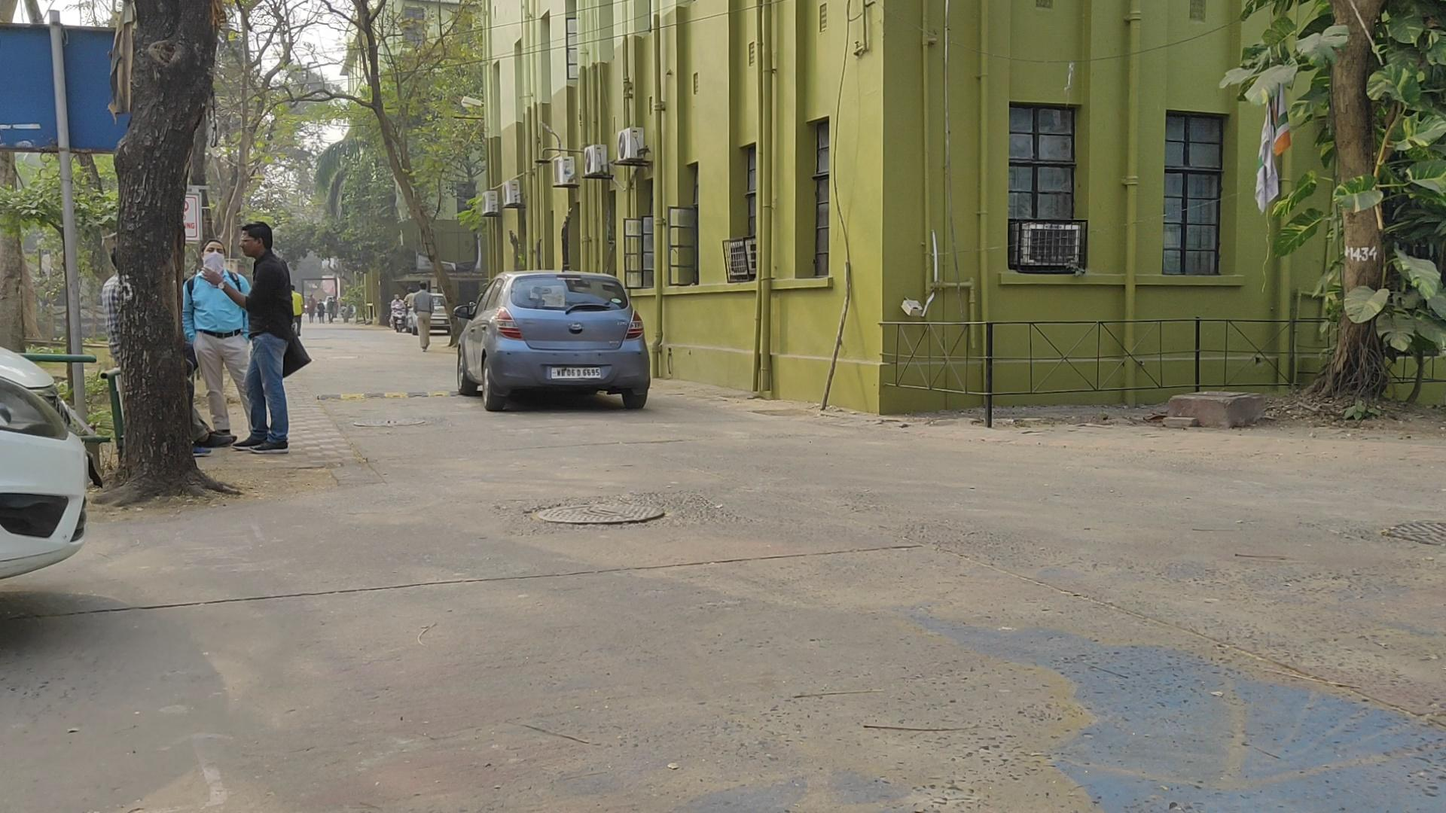bike: (387, 293, 410, 333)
car: (458, 271, 650, 417), (405, 291, 452, 336)
